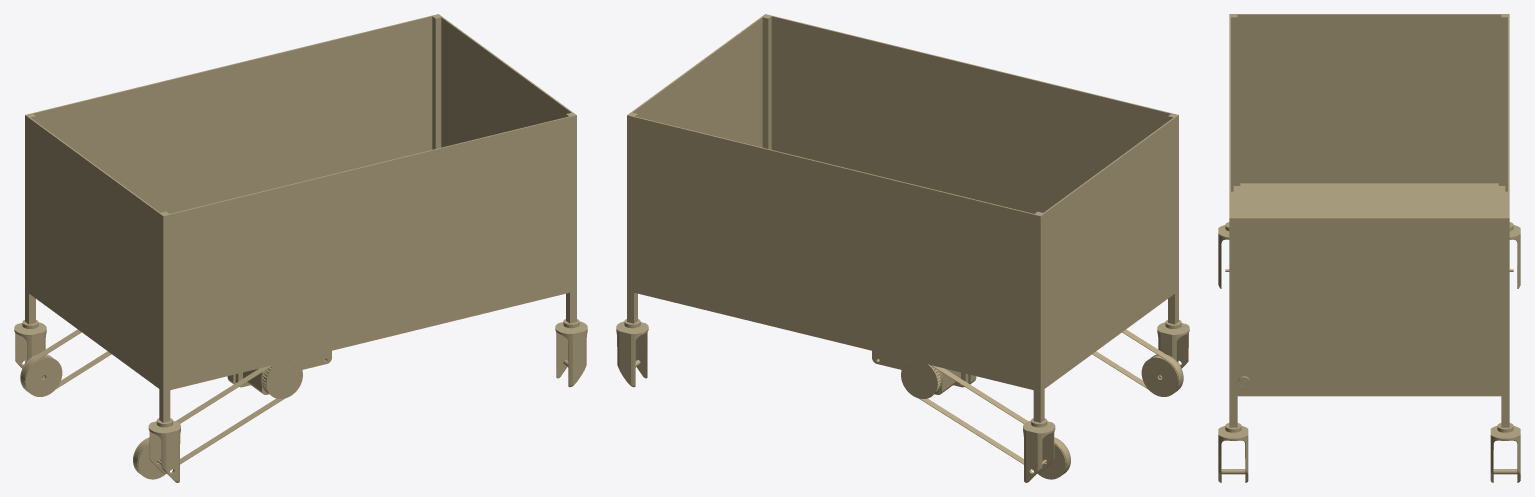
Rendered from wagon_body.glb.
3 views of the same model, side by side, from view 1: azimuth 30°, elevation 25°; view 2: azimuth 150°, elevation 25°; view 3: azimuth 270°, elevation 25° (orthographic).
Parts seen in each view (by area): view 1: geometry_0; view 2: geometry_0; view 3: geometry_0.
Boxes of the visible parts, x1,y1,x2,y2 form: geometry_0: (14,14,587,482); geometry_0: (616,14,1189,482); geometry_0: (1218,14,1520,482).
Size of the model in its own units: 0.9342 by 0.5513 by 0.5495.
